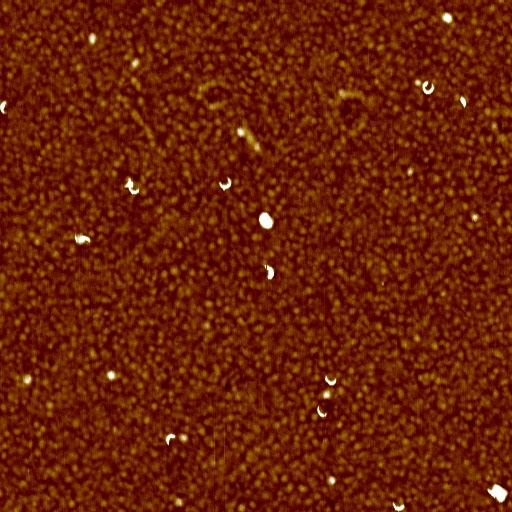-1: (483, 482, 511, 503), (256, 211, 275, 232), (73, 232, 94, 249), (439, 12, 454, 24), (457, 94, 468, 109), (86, 33, 97, 47), (108, 371, 116, 382)
1/4: (163, 430, 179, 448), (1, 97, 7, 118)
2/4: (124, 178, 142, 199), (262, 260, 276, 285), (312, 403, 331, 421), (321, 373, 341, 387), (217, 176, 233, 192), (388, 500, 411, 510)
3/4: (419, 80, 436, 96)
